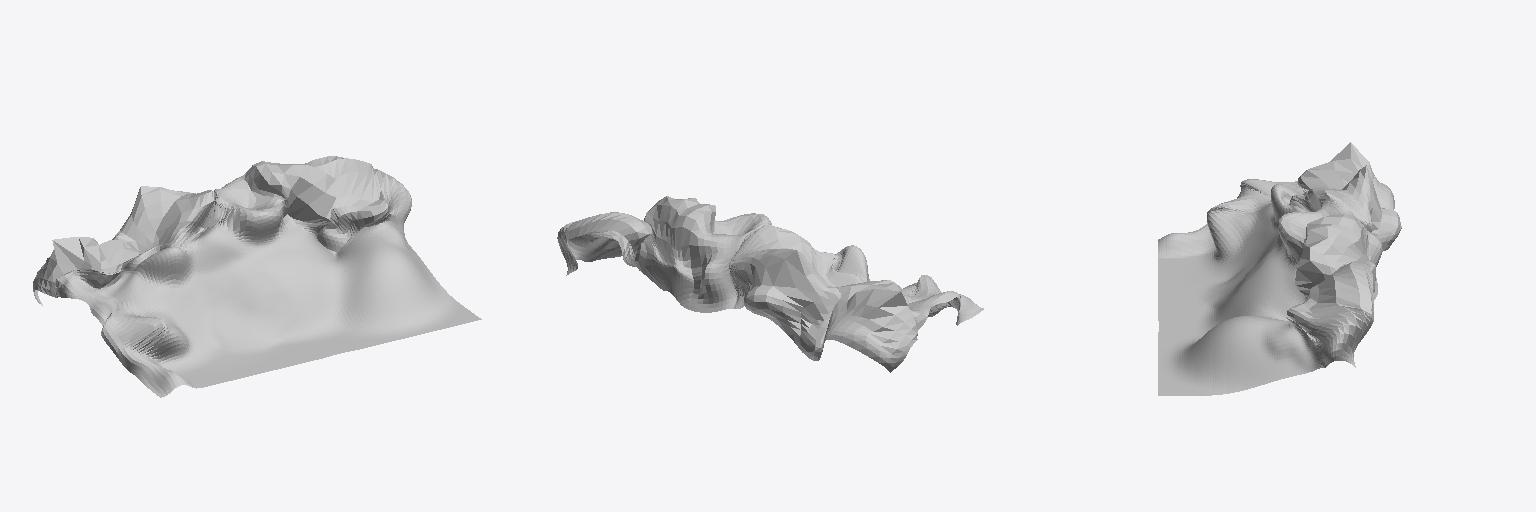
File: land.obj
3 renders of one model, left to right at view 1: azimuth 30°, elevation 25°; view 2: azimuth 150°, elevation 25°; view 3: azimuth 270°, elevation 25°, orthographic.
Visible parts, largest first — view 1: pPlane1; view 2: pPlane1; view 3: pPlane1.
Part boxes in pixels (x1,y1,x2,y2): pPlane1: (33,156,481,397); pPlane1: (557,196,983,372); pPlane1: (1158,142,1401,395).
Size of the model in its own units: 187 by 58.05 by 108.